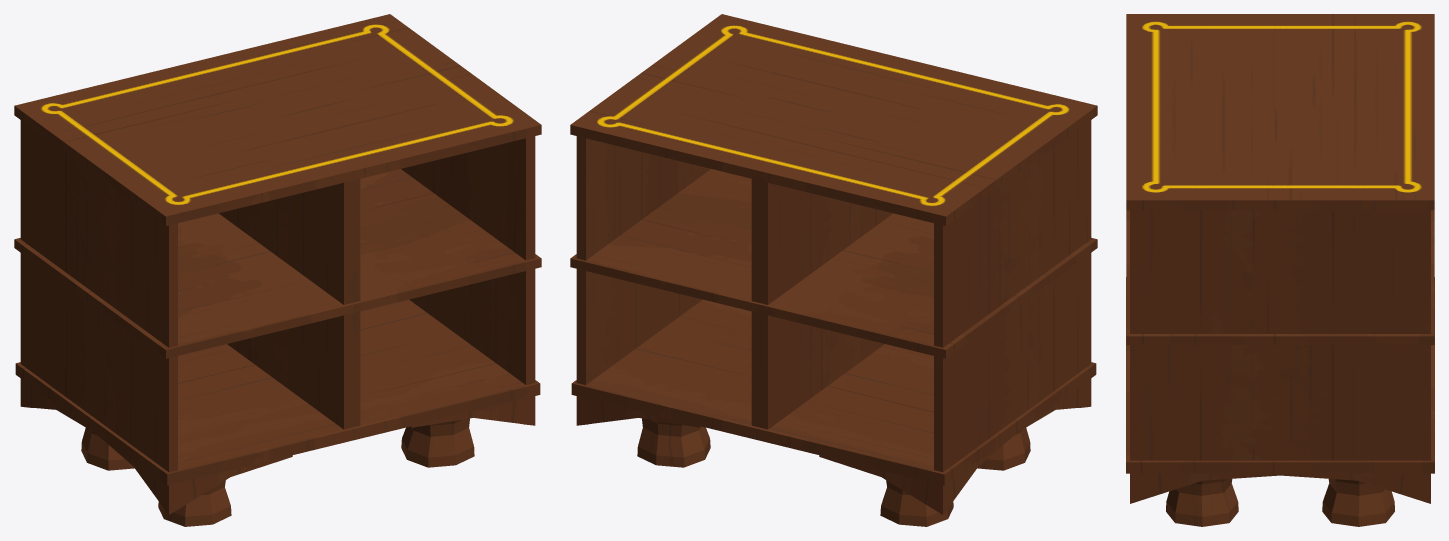
Rendered from MultiRack.fbx.
The picture shows the model from 3 angles, left to right: view 1: azimuth 30°, elevation 25°; view 2: azimuth 150°, elevation 25°; view 3: azimuth 270°, elevation 25°; orthographic projection.
Visible parts, largest first — view 1: Cube.001; view 2: Cube.001; view 3: Cube.001.
Part boxes in pixels (bbox=[...]): Cube.001: bbox=[14, 14, 541, 526]; Cube.001: bbox=[570, 14, 1097, 526]; Cube.001: bbox=[1126, 14, 1434, 526].
Size of the model in its own units: 2631 by 2264 by 1842.
1 material, 1 textured.
